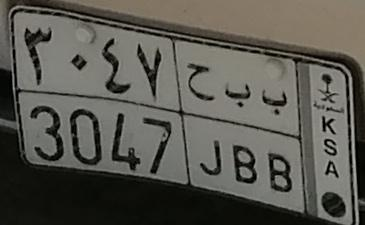0: (68, 53, 102, 167)
3: (23, 25, 65, 163)
4: (102, 38, 140, 174)
7: (138, 43, 173, 176)
B: (261, 89, 294, 193), (226, 81, 258, 184)
J: (186, 60, 225, 176)
